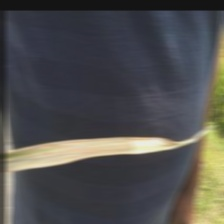Leaf_Blast: (8, 139, 199, 164)
